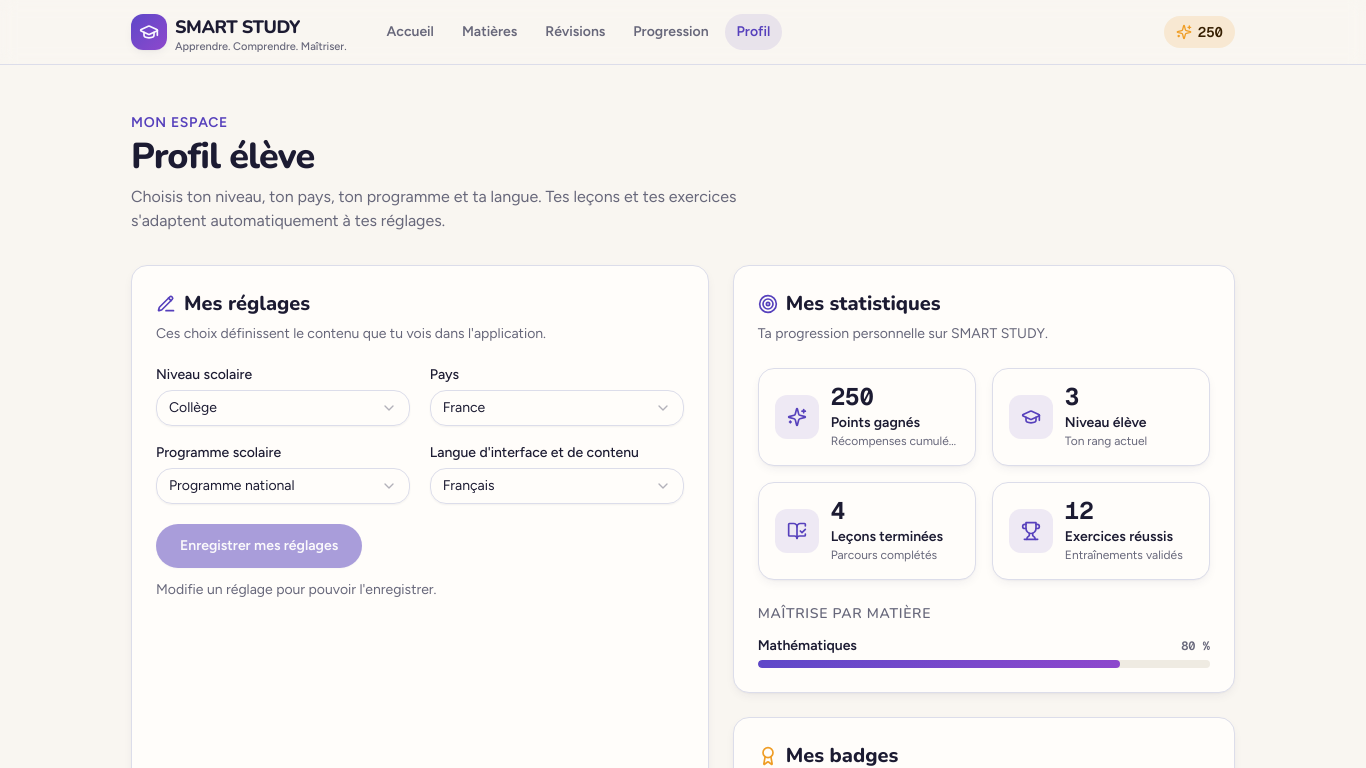
Test case: ProfilePage › saves the profile when a setting changes
Click the dropdown with test id "profile.country_select". click: (557, 408)
box: [430, 390, 684, 426]
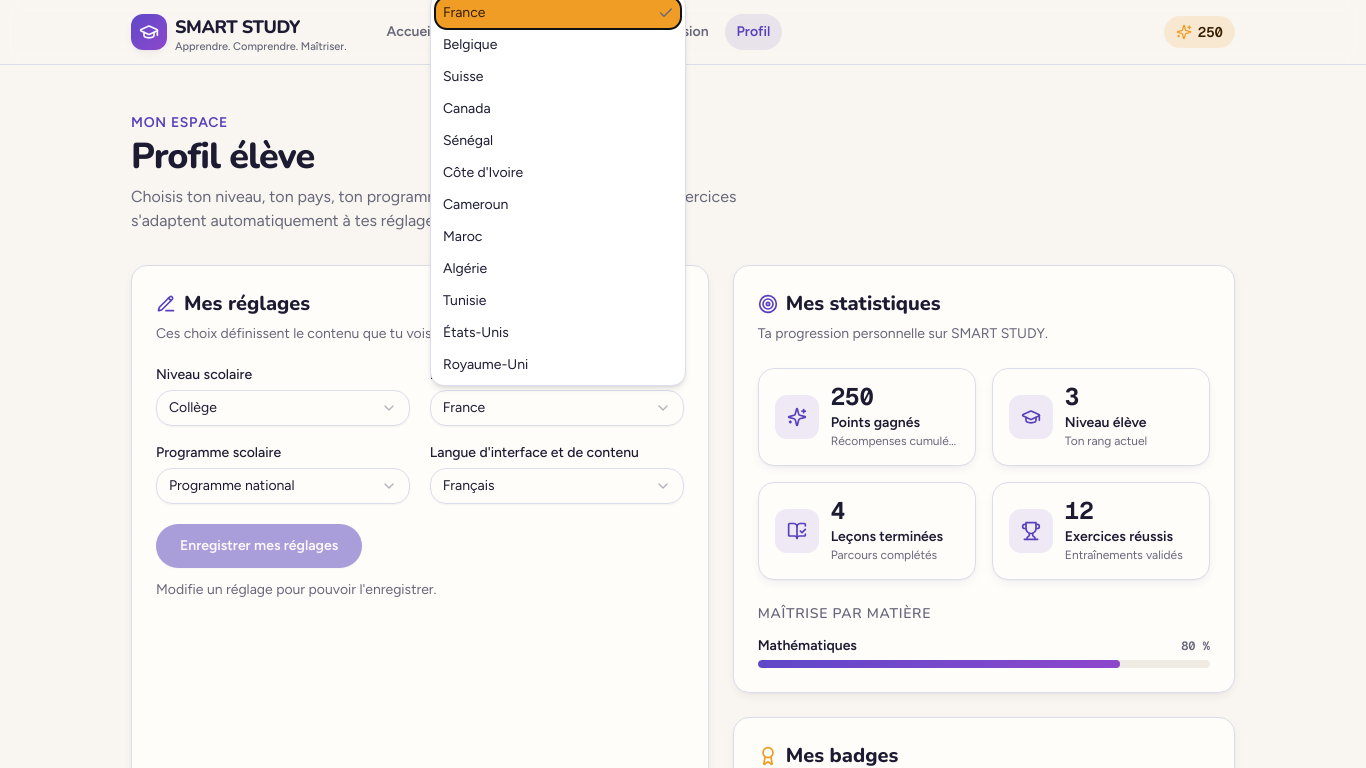
Click the option "Belgique". click: (470, 44)
box: [443, 36, 497, 53]
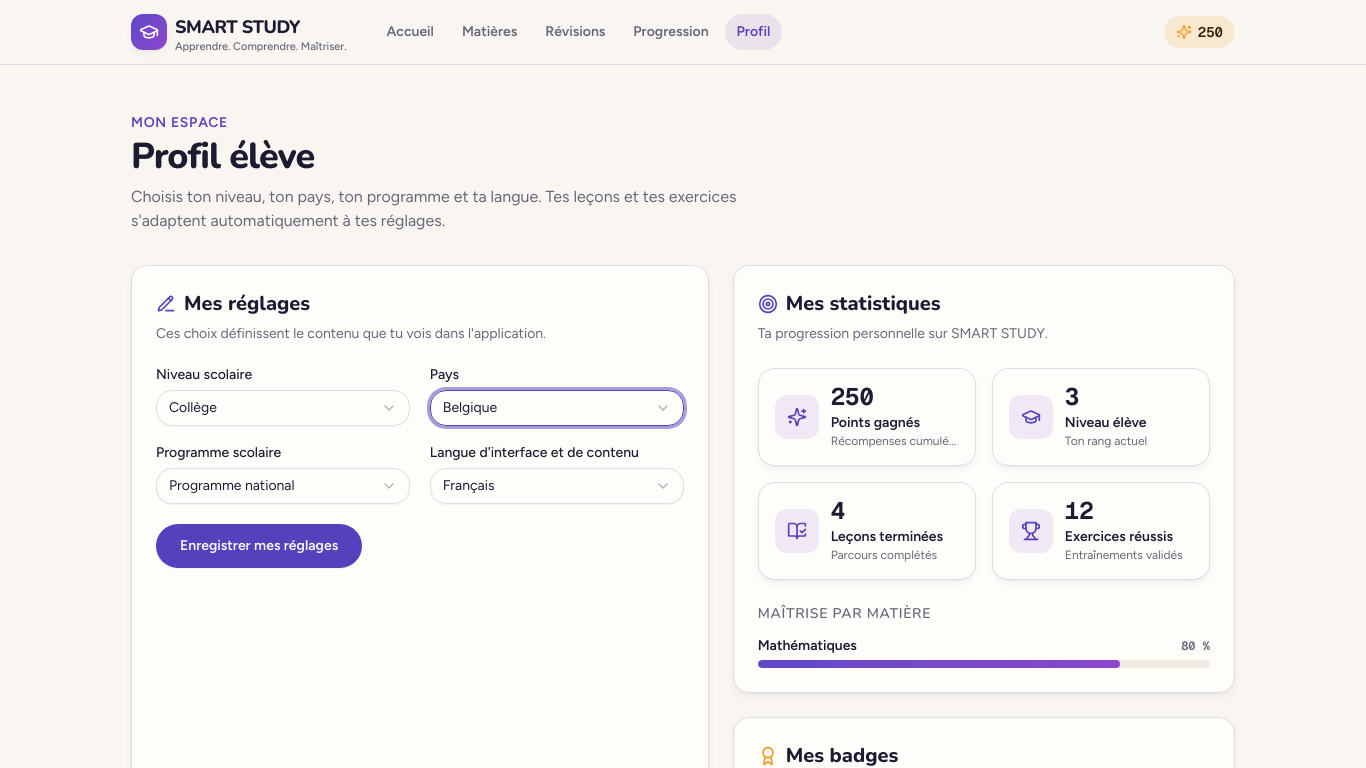
Expected: the button with test id "profile.save_button" is enabled
Click the button with test id "profile.save_button". click: (259, 546)
box: [156, 524, 362, 568]
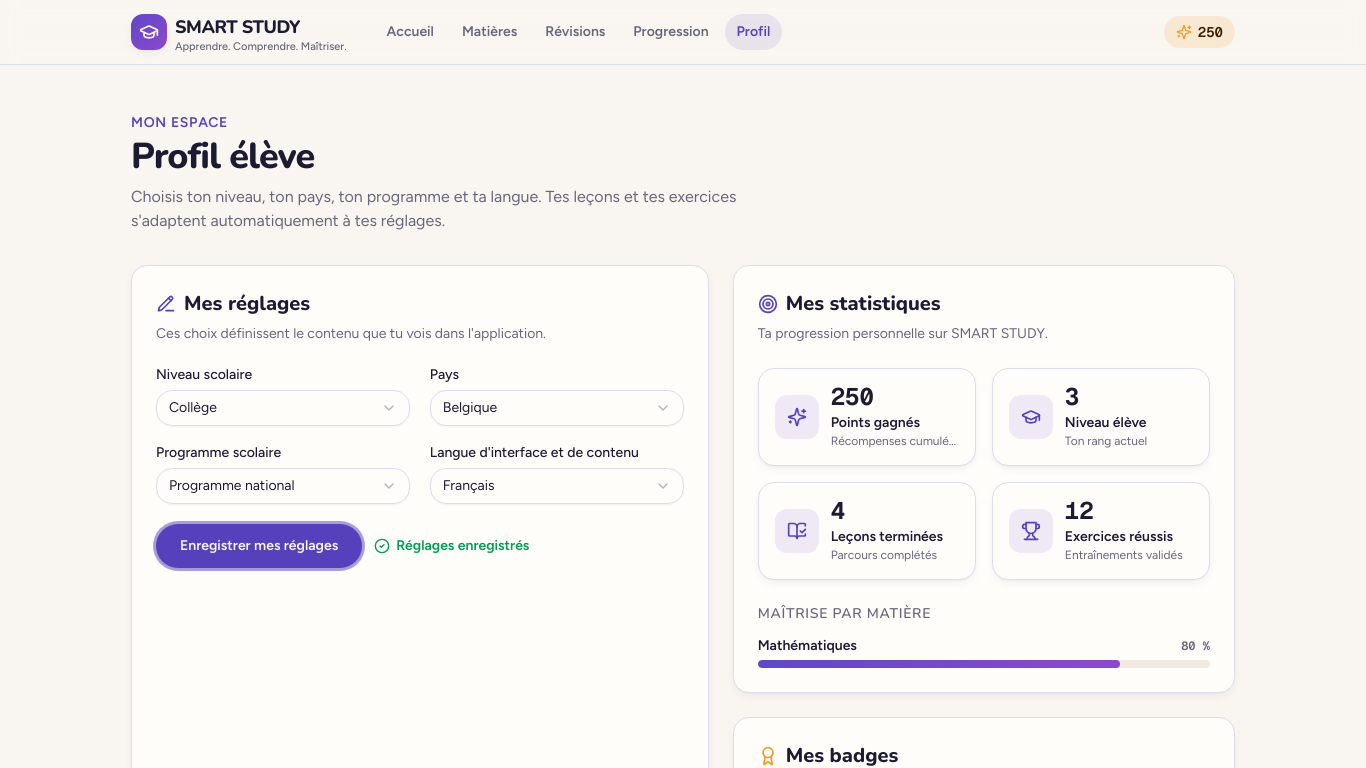
Expected: the element with test id "profile.success_state" is shown, [374, 536, 529, 556]
